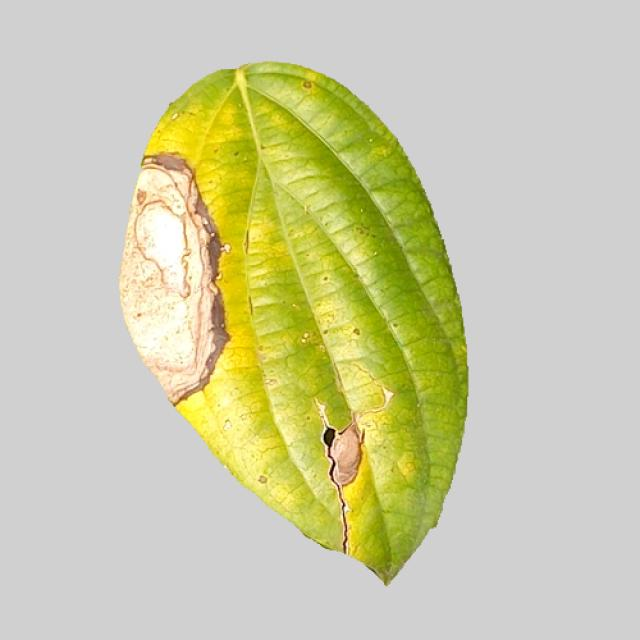leaf-blight: (105, 68, 476, 581)
